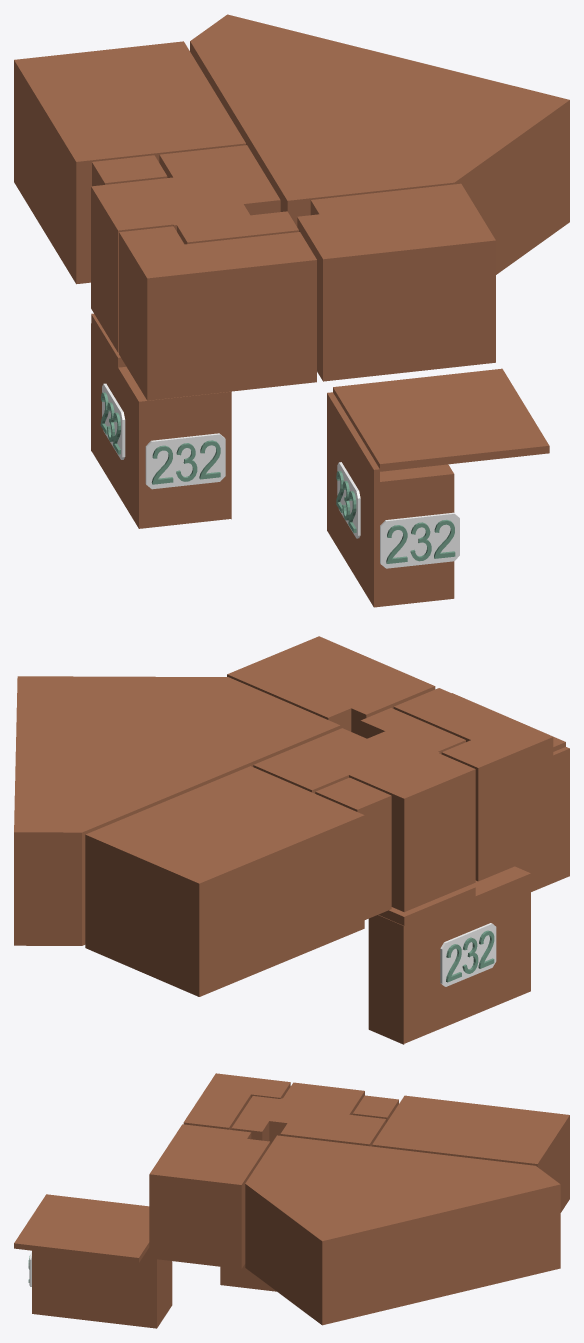
3 views of the same model, one above another, from view 1: azimuth 30°, elevation 25°; view 2: azimuth 150°, elevation 25°; view 3: azimuth 270°, elevation 25° (orthographic). The views are drawn at different scales.
Parts seen in each view (by area): view 1: g_2, g_7, g_6, g_3, g_10, g_1, g_0, g_4, g_8, g_9, g_22, g_26 (+1 smaller); view 2: g_3, g_2, g_6, g_9, g_8, g_7, g_4, g_0, g_5, g_1, g_18; view 3: g_2, g_7, g_3, g_1, g_10, g_4, g_6, g_8, g_0, g_5.
Part boxes in pixels (x1=…): g_2: x1=190, y1=14, x2=569, y2=274; g_7: x1=297, y1=183, x2=495, y2=381; g_6: x1=119, y1=226, x2=316, y2=400; g_3: x1=14, y1=41, x2=245, y2=284; g_10: x1=333, y1=368, x2=549, y2=471; g_1: x1=327, y1=392, x2=454, y2=607; g_0: x1=124, y1=377, x2=231, y2=528; g_4: x1=149, y1=145, x2=298, y2=244; g_8: x1=91, y1=180, x2=172, y2=352; g_9: x1=91, y1=313, x2=132, y2=504; g_22: x1=145, y1=433, x2=225, y2=489; g_26: x1=380, y1=512, x2=459, y2=568; g_3: x1=85, y1=766, x2=364, y2=996; g_2: x1=14, y1=676, x2=340, y2=945; g_6: x1=393, y1=688, x2=553, y2=881; g_9: x1=368, y1=882, x2=491, y2=1044; g_8: x1=365, y1=753, x2=475, y2=911; g_7: x1=227, y1=636, x2=435, y2=735; g_4: x1=253, y1=708, x2=465, y2=793; g_0: x1=475, y1=866, x2=530, y2=1007; g_5: x1=315, y1=777, x2=391, y2=919; g_1: x1=515, y1=747, x2=569, y2=891; g_18: x1=440, y1=923, x2=496, y2=986; g_2: x1=245, y1=1135, x2=560, y2=1325; g_7: x1=149, y1=1124, x2=270, y2=1269; g_3: x1=372, y1=1095, x2=569, y2=1212; g_1: x1=32, y1=1248, x2=172, y2=1328; g_10: x1=14, y1=1194, x2=149, y2=1263; g_4: x1=231, y1=1096, x2=386, y2=1146; g_6: x1=183, y1=1073, x2=290, y2=1129; g_8: x1=283, y1=1082, x2=364, y2=1111; g_0: x1=220, y1=1264, x2=276, y2=1291; g_5: x1=353, y1=1095, x2=398, y2=1122.
Bounding box in the file's own units: 10.27 × 5.2 × 14.37.
